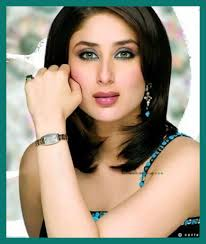indian_female: (60, 8, 171, 122)
